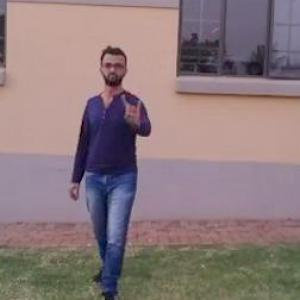takeoff-hand: (113, 89, 147, 131)
